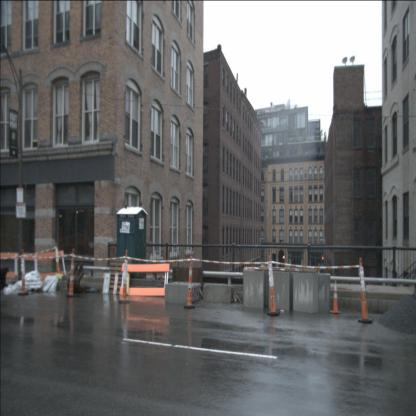movable_object-trafficcone: (358, 258, 372, 323), (266, 256, 281, 316), (184, 254, 196, 309), (65, 249, 76, 298), (18, 249, 29, 296), (119, 258, 130, 304), (330, 279, 341, 314), (55, 242, 60, 280)
